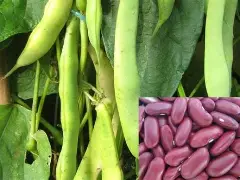crops: (3, 0, 234, 99), (4, 75, 124, 178), (137, 95, 237, 178), (0, 0, 33, 43)
